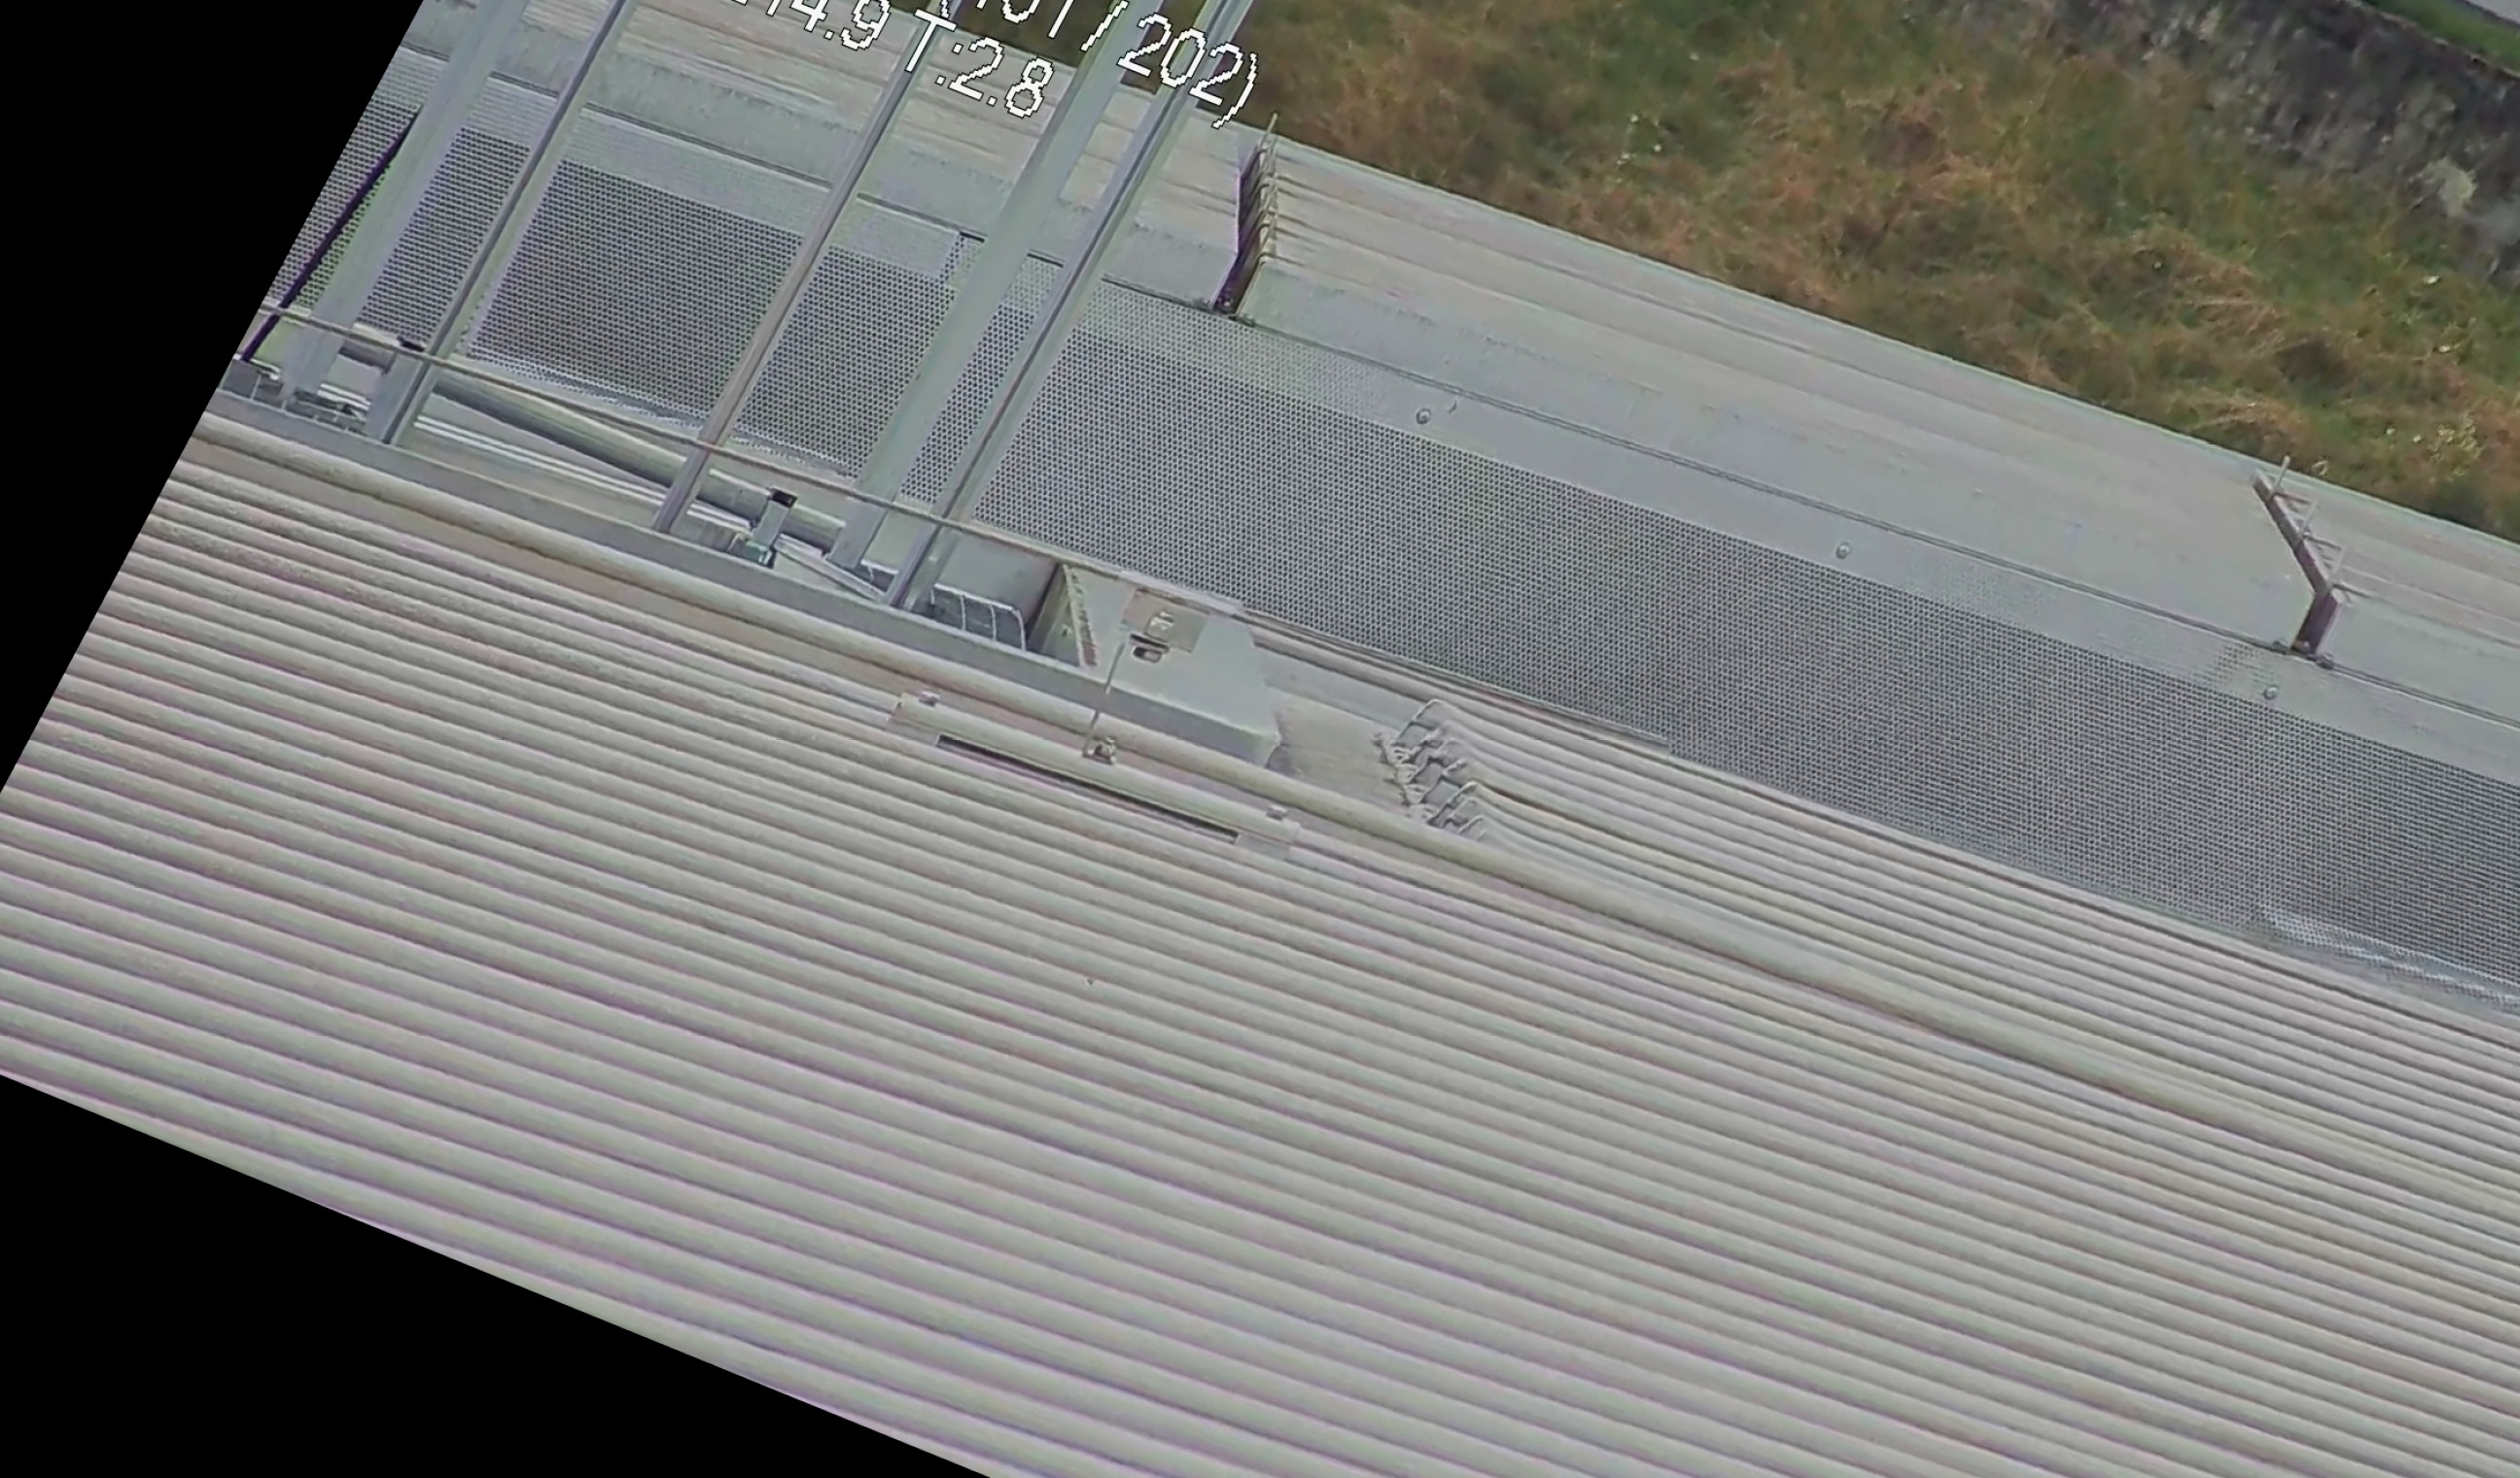Other: (1136, 88, 1345, 318)
